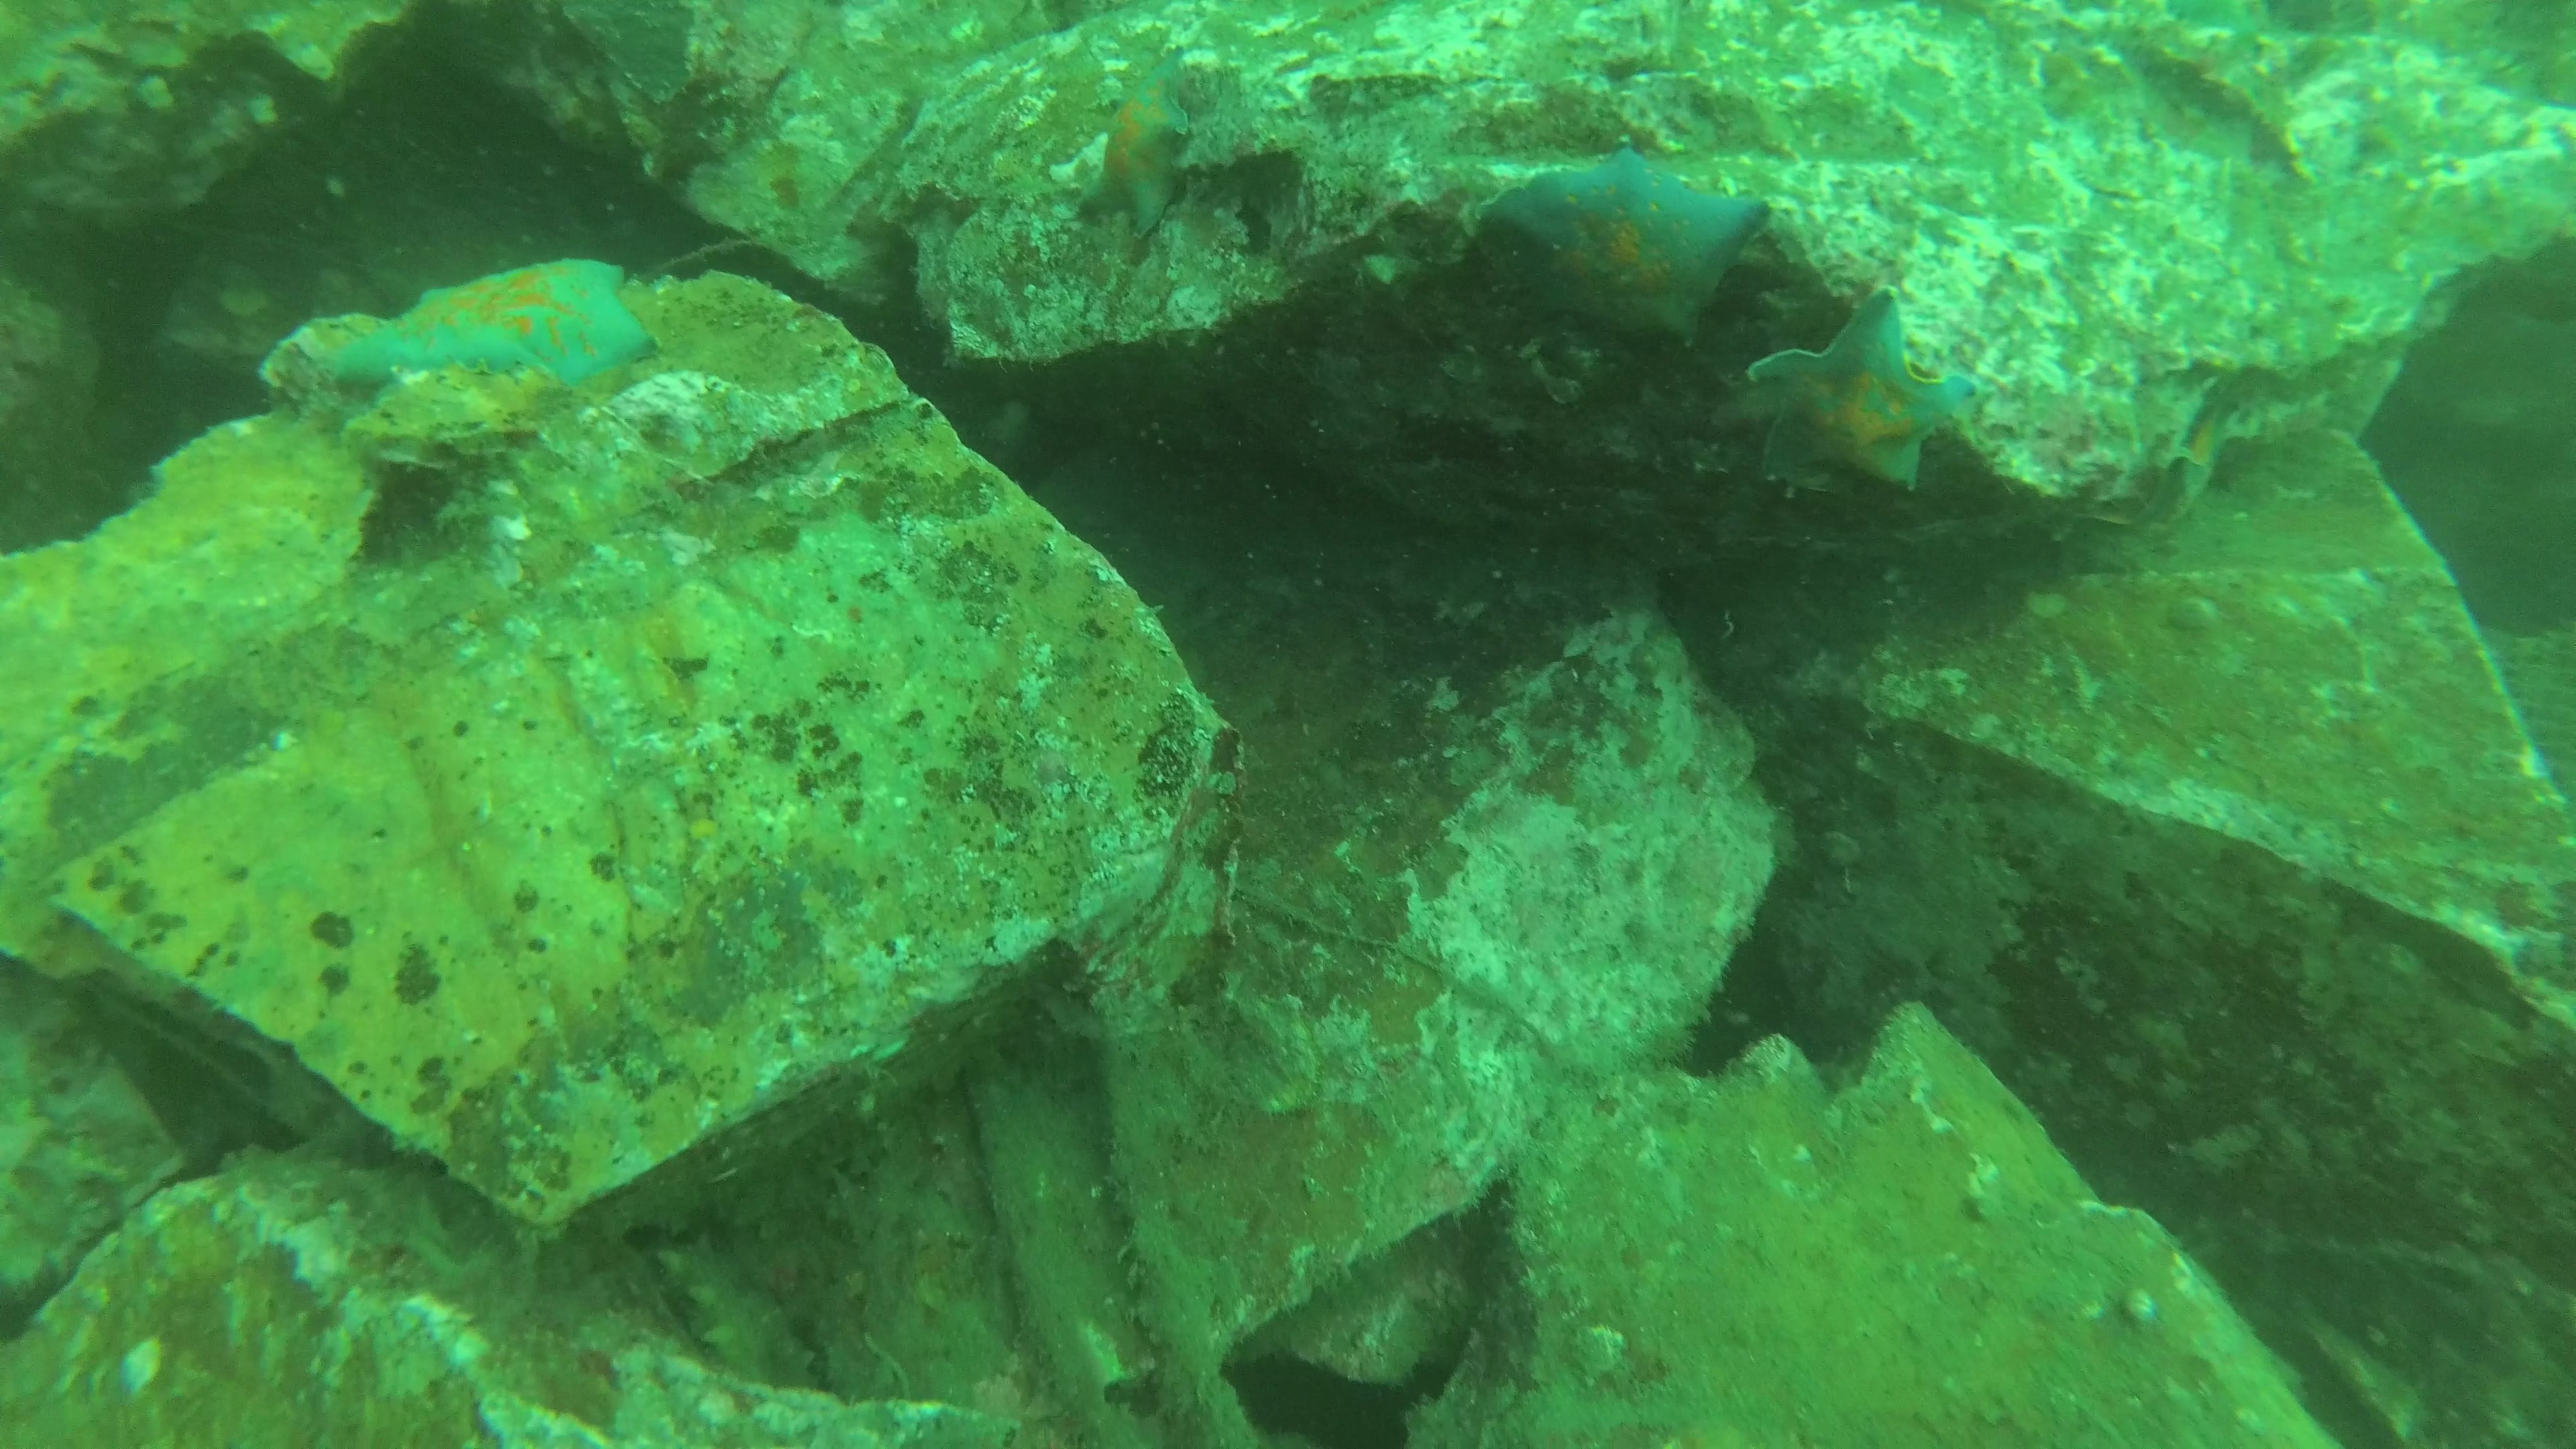holothurian: (651, 1238, 817, 1394)
starfish: (1488, 149, 1773, 340), (1743, 283, 1985, 494), (331, 255, 658, 389), (1095, 44, 1196, 239), (2171, 407, 2226, 518)
